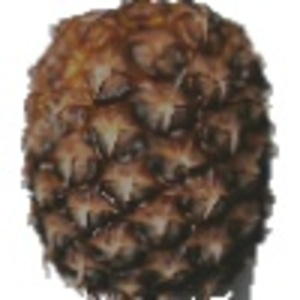abacaxi: (17, 3, 277, 294)
